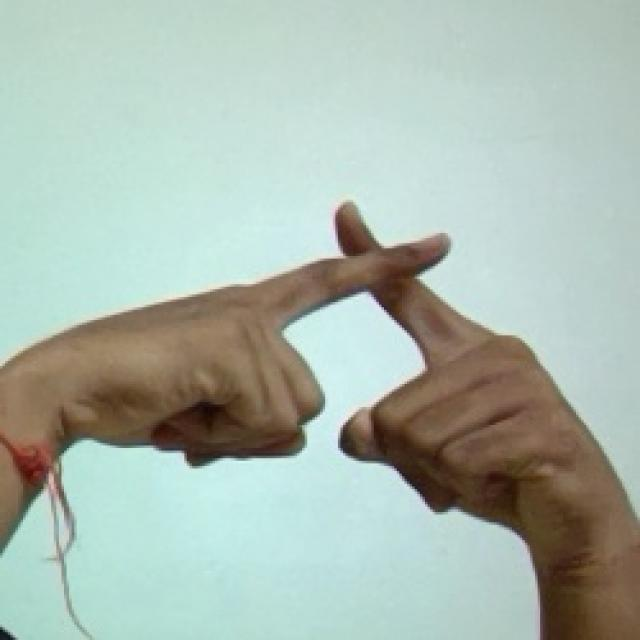Alphabet-X: (80, 182, 594, 544)
